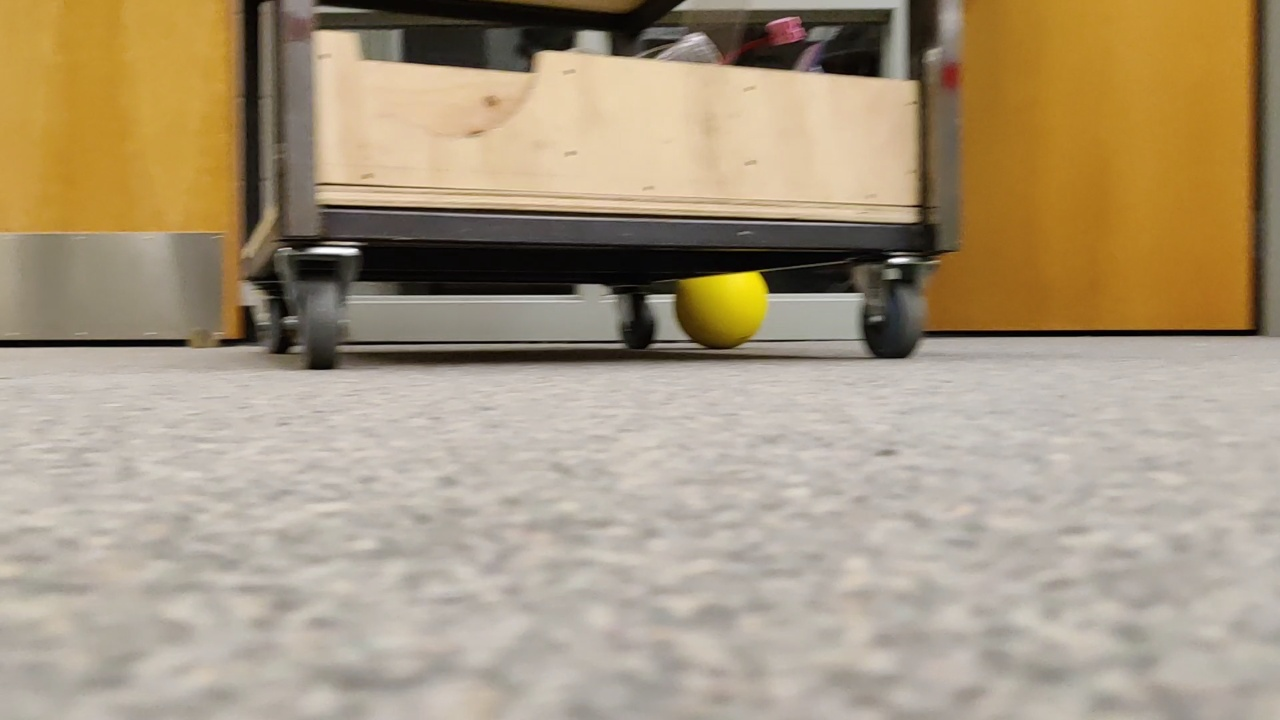Ball: (670, 274, 777, 345)
